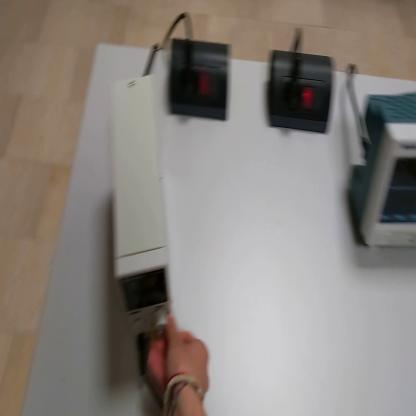hand: (146, 311, 211, 416)
oscilloscope: (347, 91, 416, 253)
power supply: (101, 78, 166, 344)
socket: (267, 55, 336, 139), (167, 42, 234, 124)
